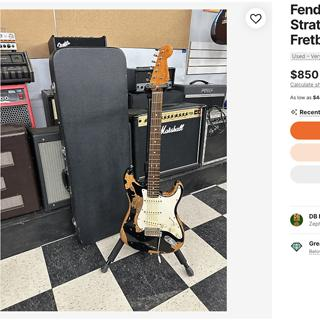Fender Stratocaster: (117, 43, 188, 266)
SSS: (144, 199, 164, 229)
